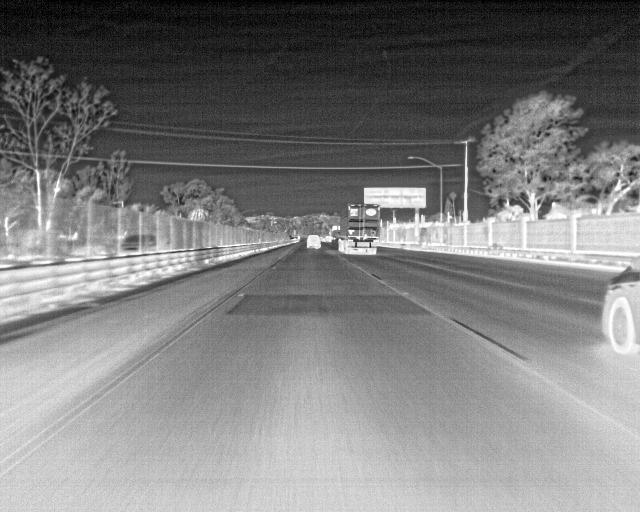car: (600, 257, 639, 356), (305, 234, 320, 249)
